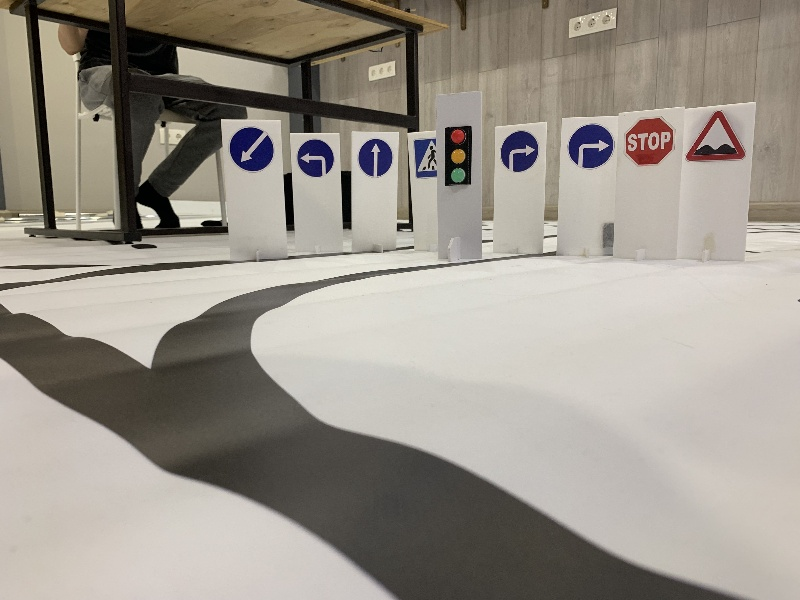Left: (296, 138, 334, 179)
Nerov: (686, 111, 745, 161)
Right: (565, 120, 612, 170), (501, 128, 542, 175)
Stop: (620, 117, 676, 163)
forw: (357, 138, 395, 178)
pesh: (412, 135, 441, 178)
prep: (227, 126, 275, 173)
